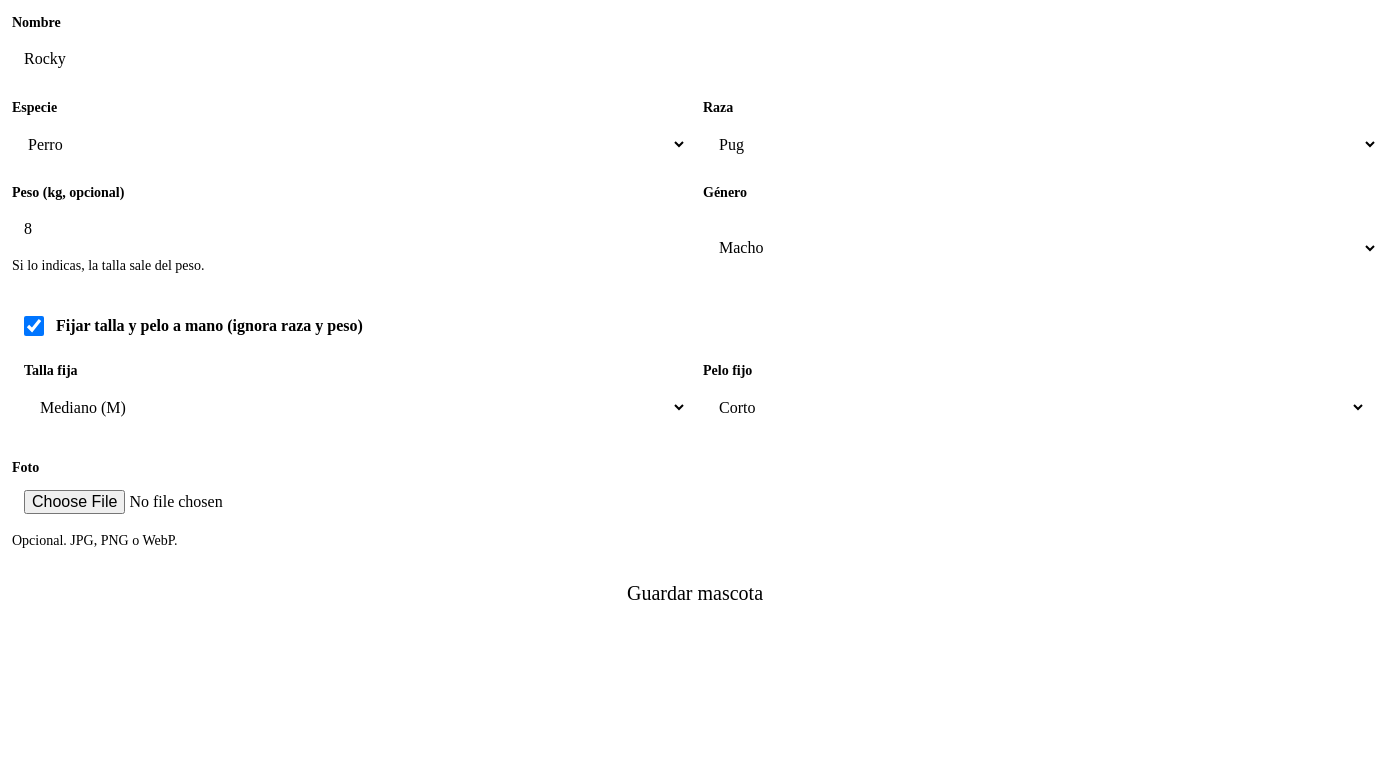
it: PetForm › el staff fija talla y pelo a mano; edita una mascota existente
Expected: the field labelled "Nombre" holds "Rocky", [12,37,1378,81]
Expected: the dropdown labelled "Talla fija" shows "Mediano (M)", [24,385,687,429]
Click the checkbox labelled "Fijar talla y pelo a mano (ignora raza y peso)" at [34, 326], box [24,316,44,336]
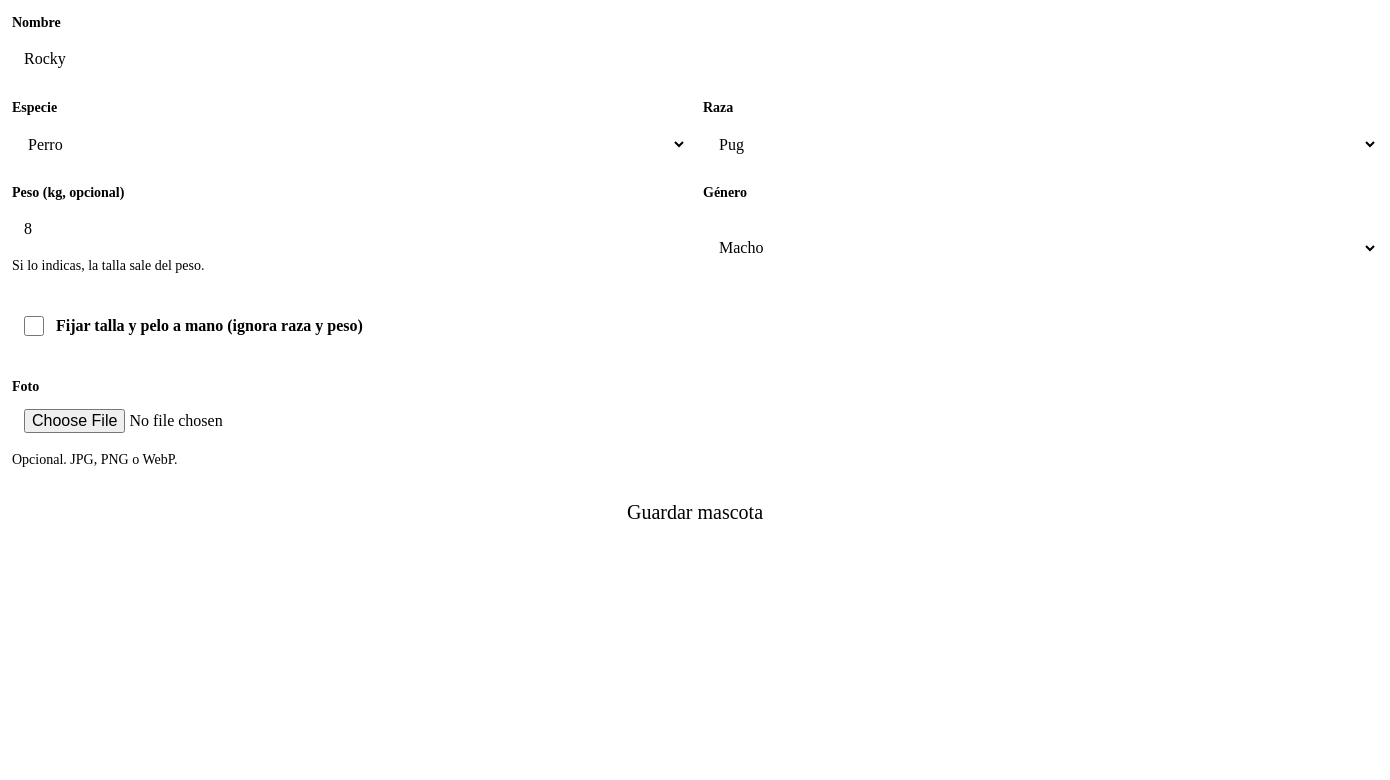
Expected: the label labelled "Talla fija" is gone
